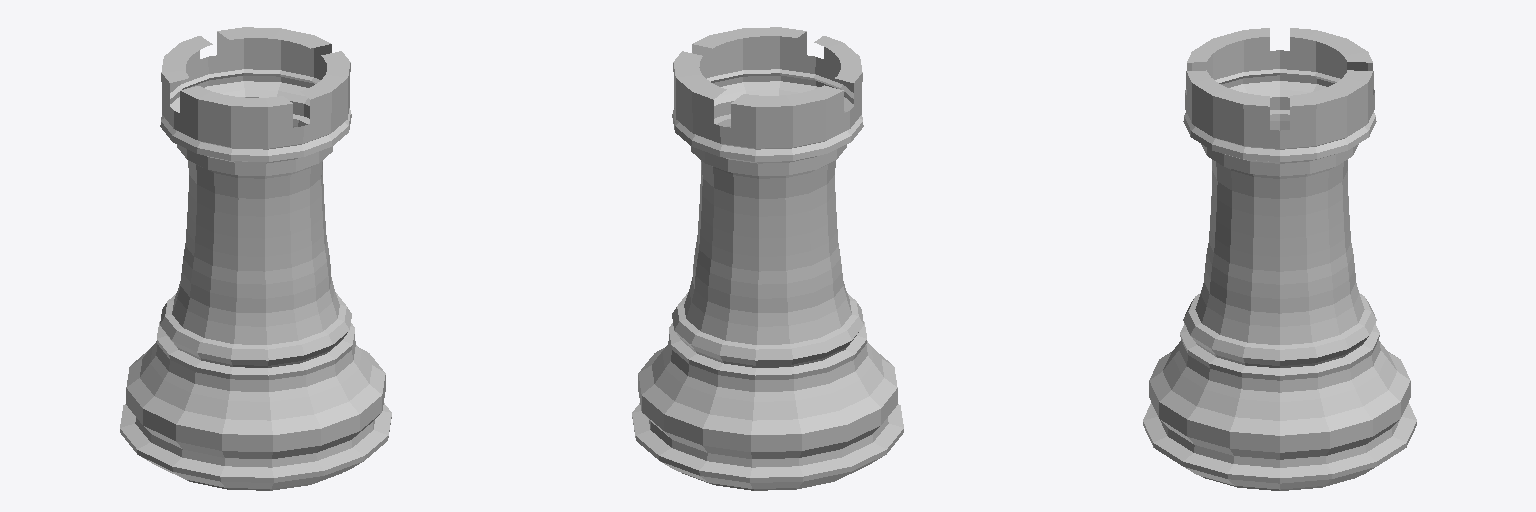
Rendered from castle.obj.
3 renders of one model, left to right at view 1: azimuth 30°, elevation 25°; view 2: azimuth 150°, elevation 25°; view 3: azimuth 270°, elevation 25°, orthographic.
Parts seen in each view (by area): view 1: Vert.001; view 2: Vert.001; view 3: Vert.001.
Boxes of the visible parts, <box> form: Vert.001: <box>120,27,391,490</box>; Vert.001: <box>632,27,903,490</box>; Vert.001: <box>1143,28,1416,490</box>.
Bounding box in the file's own units: 1.12 × 1.71 × 1.12.